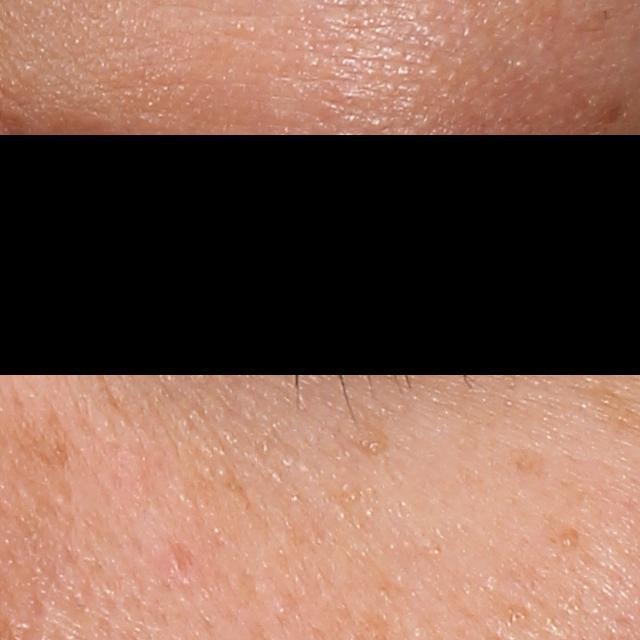melasma: (5, 400, 77, 473), (591, 93, 629, 133), (503, 448, 553, 478)
